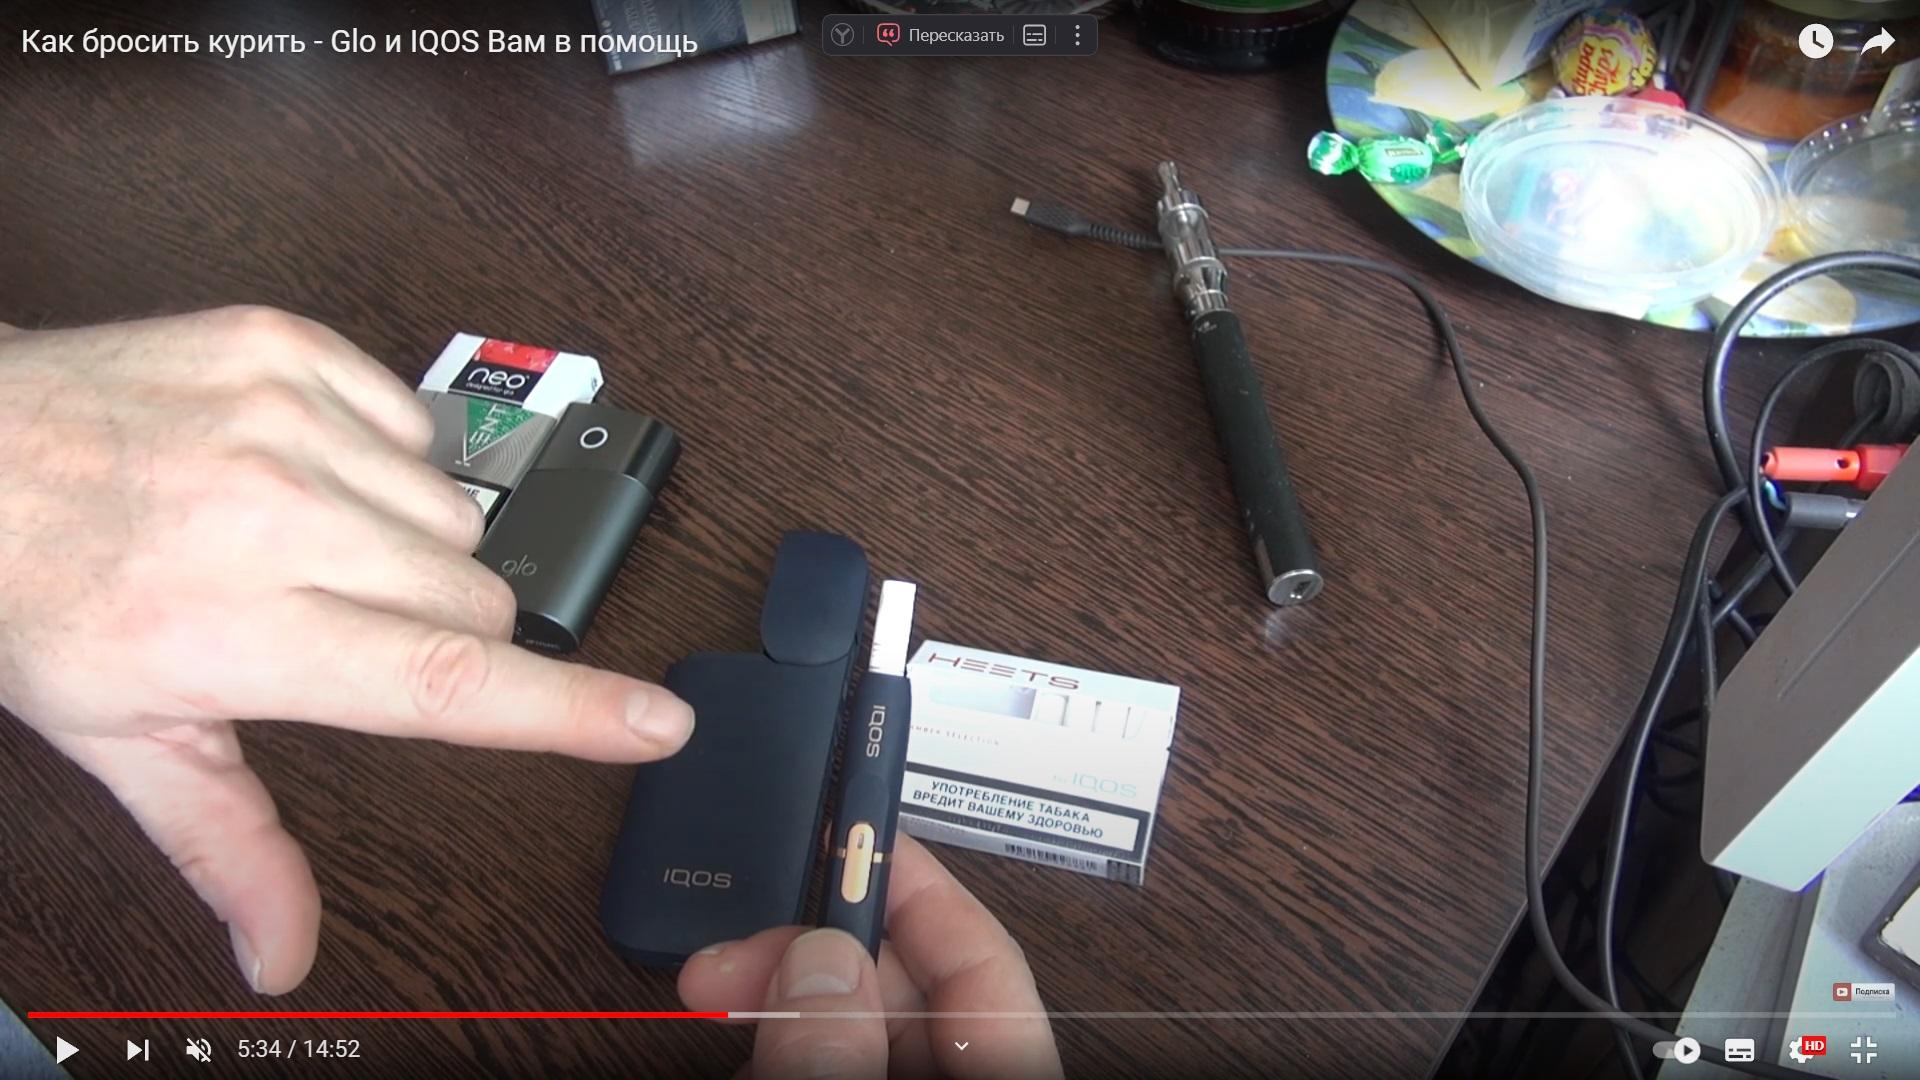Vape: (1156, 161, 1323, 607)
iqos: (819, 580, 916, 967)
